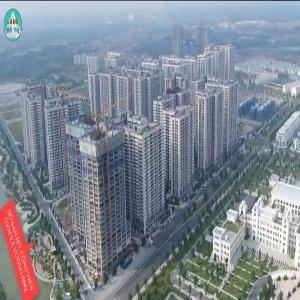drone: (152, 66, 195, 109)
